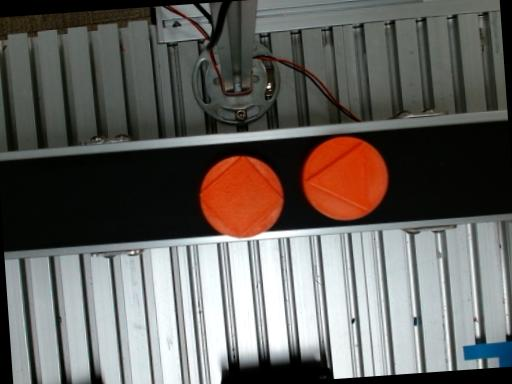Not_Square: (304, 141, 370, 213)
Orange_Waper: (302, 138, 388, 221), (200, 156, 282, 237)
Square: (197, 155, 282, 239)
